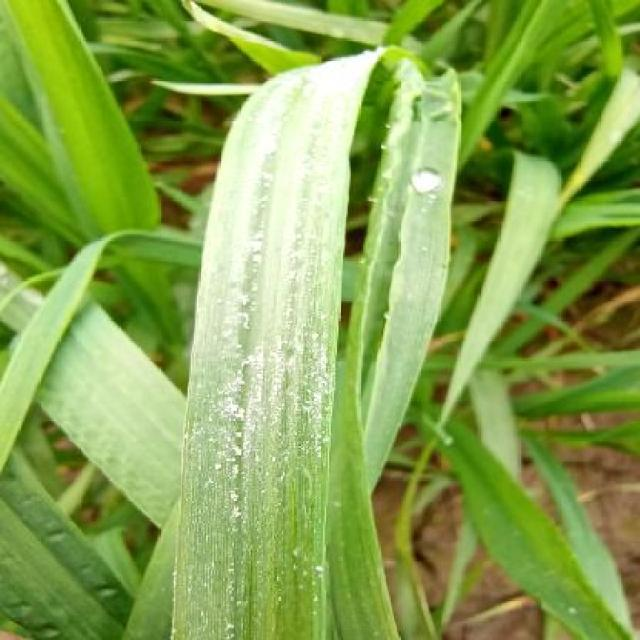Powdery Mildew: (176, 153, 352, 639)
